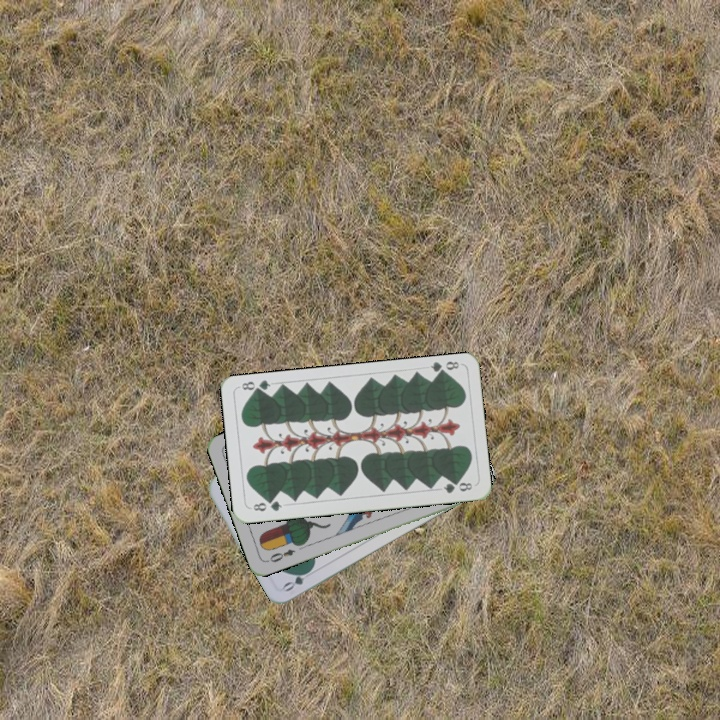EO: (263, 545, 298, 565)
G8: (426, 357, 461, 378), (249, 496, 284, 514)
GO: (279, 564, 317, 594)
